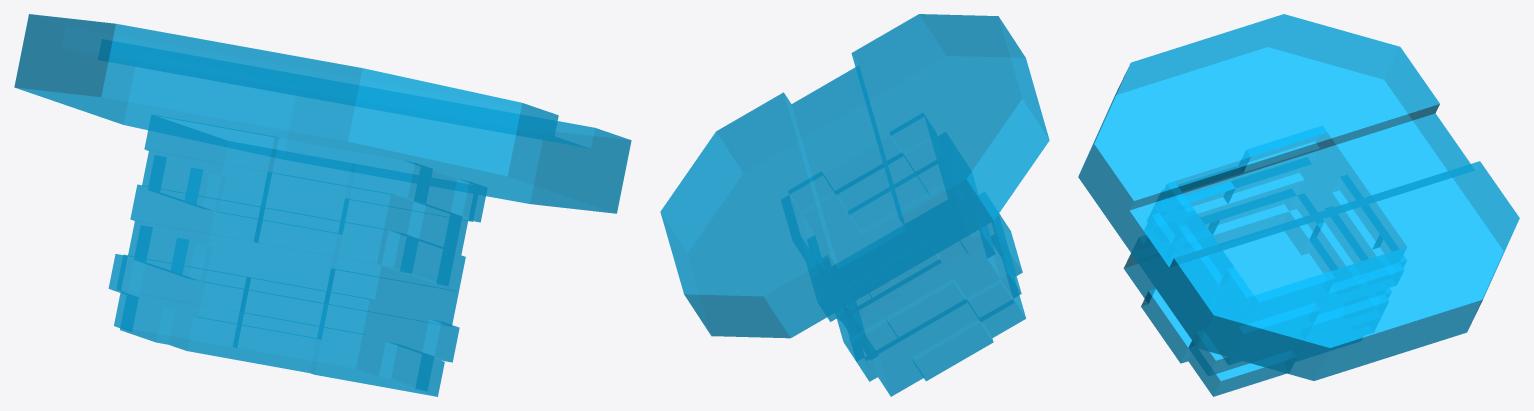
Rendered from bBoltAnim.fbx.
3 renders of one model, left to right at view 1: azimuth 30°, elevation 25°; view 2: azimuth 150°, elevation 25°; view 3: azimuth 270°, elevation 25°, orthographic. The views are drawn at different scales.
Visible parts, largest first — view 1: Cube; view 2: Cube; view 3: Cube.
Part boxes in pixels (left/top/right/bottom): Cube: left=14, top=14, right=631, bottom=396; Cube: left=660, top=14, right=1049, bottom=396; Cube: left=1078, top=14, right=1519, bottom=396.
Size of the model in its own units: 53.61 by 41.51 by 57.68.
